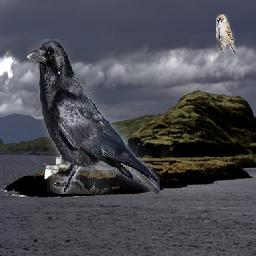Crow: (28, 40, 161, 195)
Sparrow: (216, 14, 236, 54)
